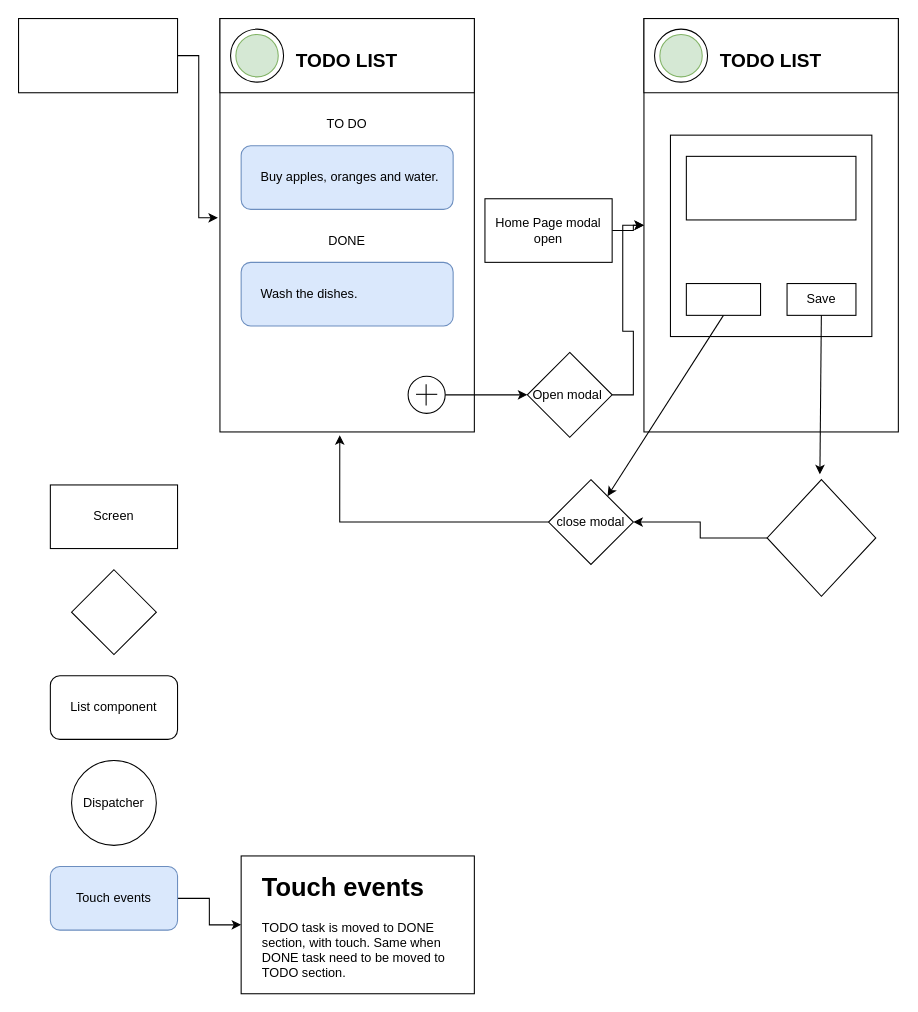
Image size: 918x1012. Some labels were removed from this diagram. The shapes that lost their labels are listed below. From the top down, each one's box as (x1, y1, x2, y2) in pixels, then its label:
(17, 17, 178, 93): Home Page Final Version
(685, 155, 856, 220): Type task here
(685, 282, 761, 315): Cancel
(766, 479, 876, 596): save task to todo list
(70, 569, 156, 655): actions
